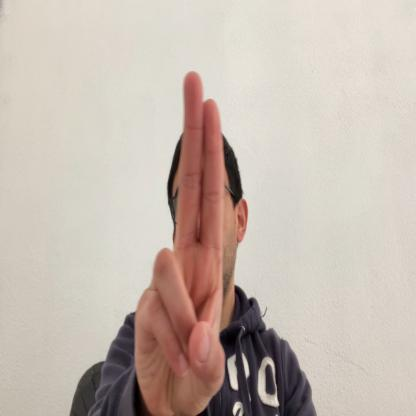U: (134, 68, 226, 415)
